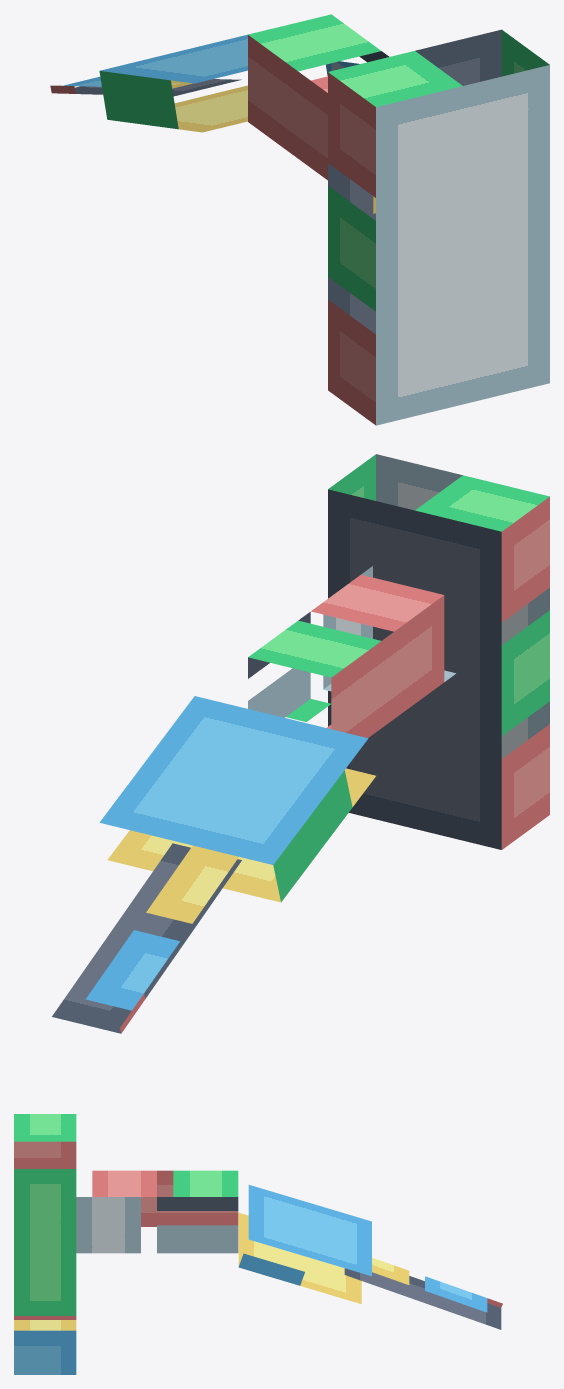
Rendered from tripwire_hook_on.obj.
3 renders of one model, top to bottom at view 1: azimuth 30°, elevation 25°; view 2: azimuth 150°, elevation 25°; view 3: azimuth 270°, elevation 25°, orthographic. The views are drawn at different scales.
Parts seen in each view (by area): view 1: Cube.001, Cube.002, Cube.003, Cube; view 2: Cube.001, Cube.003, Cube.002, Cube; view 3: Cube.001, Cube.002, Cube.003, Cube.
Part boxes in pixels (<box>): Cube.001: <box>328,29,549,425</box>; Cube.002: <box>248,14,389,213</box>; Cube.003: <box>99,29,368,132</box>; Cube: <box>50,76,241,96</box>; Cube.001: <box>328,454,549,849</box>; Cube.003: <box>99,696,375,902</box>; Cube.002: <box>248,566,455,737</box>; Cube: <box>52,843,241,1033</box>; Cube.001: <box>14,1114,76,1374</box>; Cube.002: <box>76,1170,238,1253</box>; Cube.003: <box>238,1185,371,1303</box>; Cube: <box>344,1257,502,1329</box>.
Bounding box in the file's own units: 0.5 × 0.875 × 2.06.
1 material, 1 textured.
